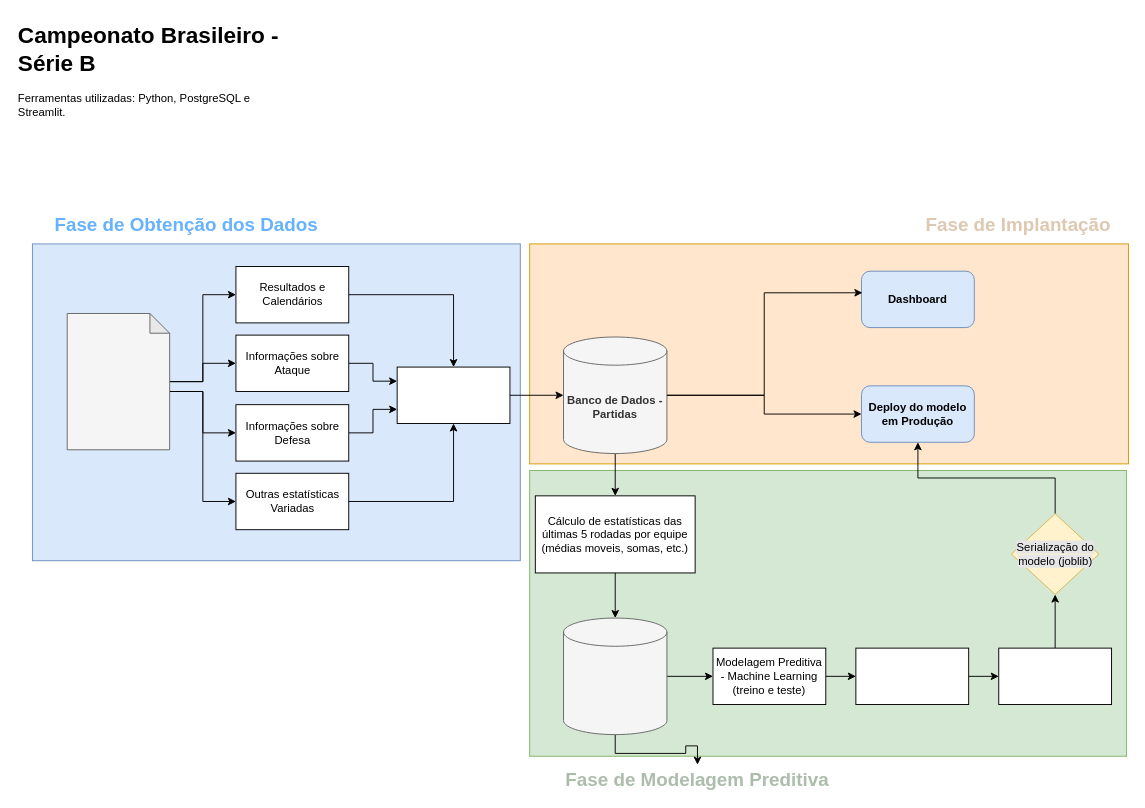
The diagram is 1145 pixels wide and 808 high, and some of its shapes have lost their labels. Here are the shapes that lost their labels. From the top down, the box of each, then its label:
(66, 313, 170, 450): Resultados das Partidas (FBREF)
(396, 366, 510, 423): União e consolidação dos dados
(563, 617, 667, 735): Banco de Dados - Modelagem Preditiva
(855, 647, 969, 705): Otimização de Hiperparâmetros
(998, 647, 1112, 705): Obtenção do modelo mais performático com base em métricas
